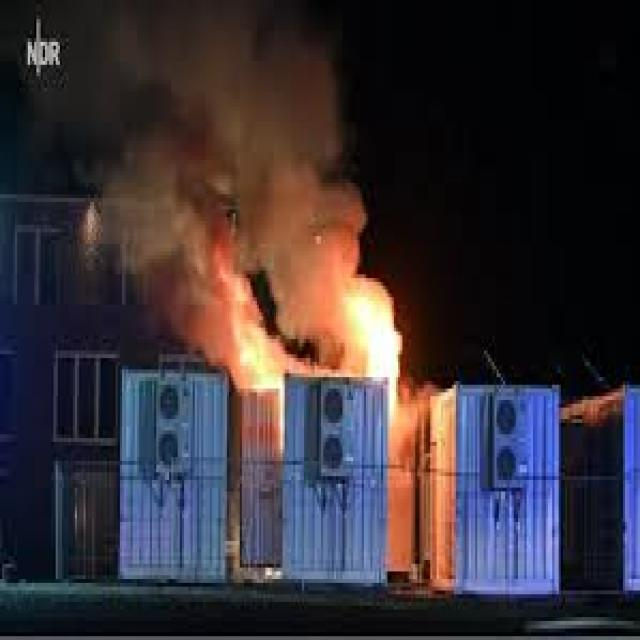fire: (167, 202, 396, 510)
